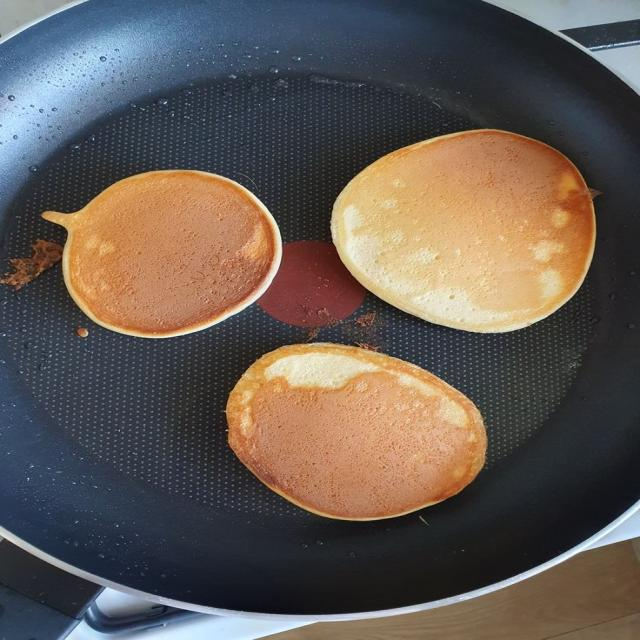pancake: (332, 130, 595, 332), (227, 344, 486, 519), (43, 170, 280, 337)
